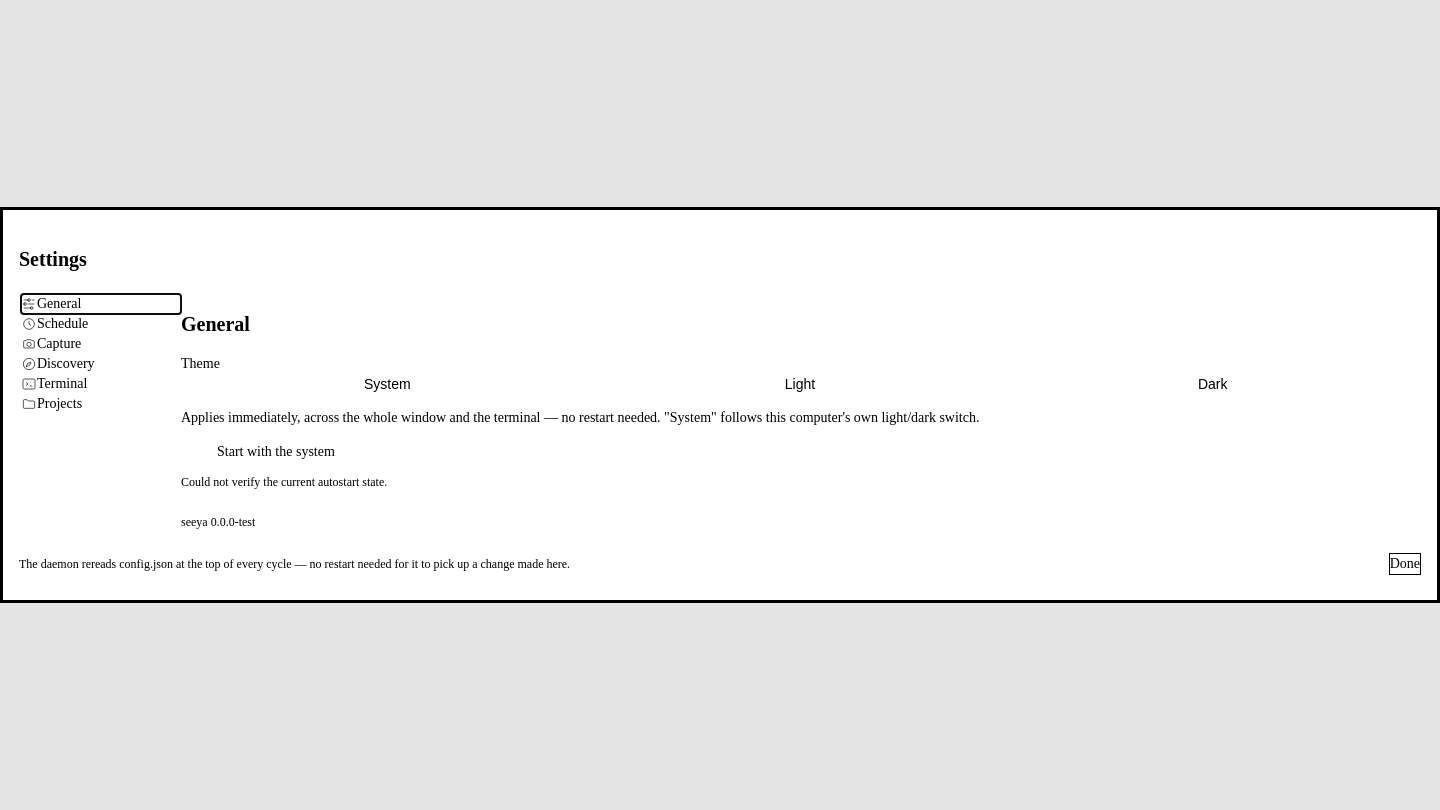
SettingsDialog (V2-T65, D-052, docs/INTERFACE.md § 8) › shows the Projects section read-only, and the policy heading/line
Check: the radio button labelled "System" is shown, box top-left (181, 374), bottom-right (594, 394)
Click the button "Projects" at (101, 404), box top-left (21, 394), bottom-right (181, 414)
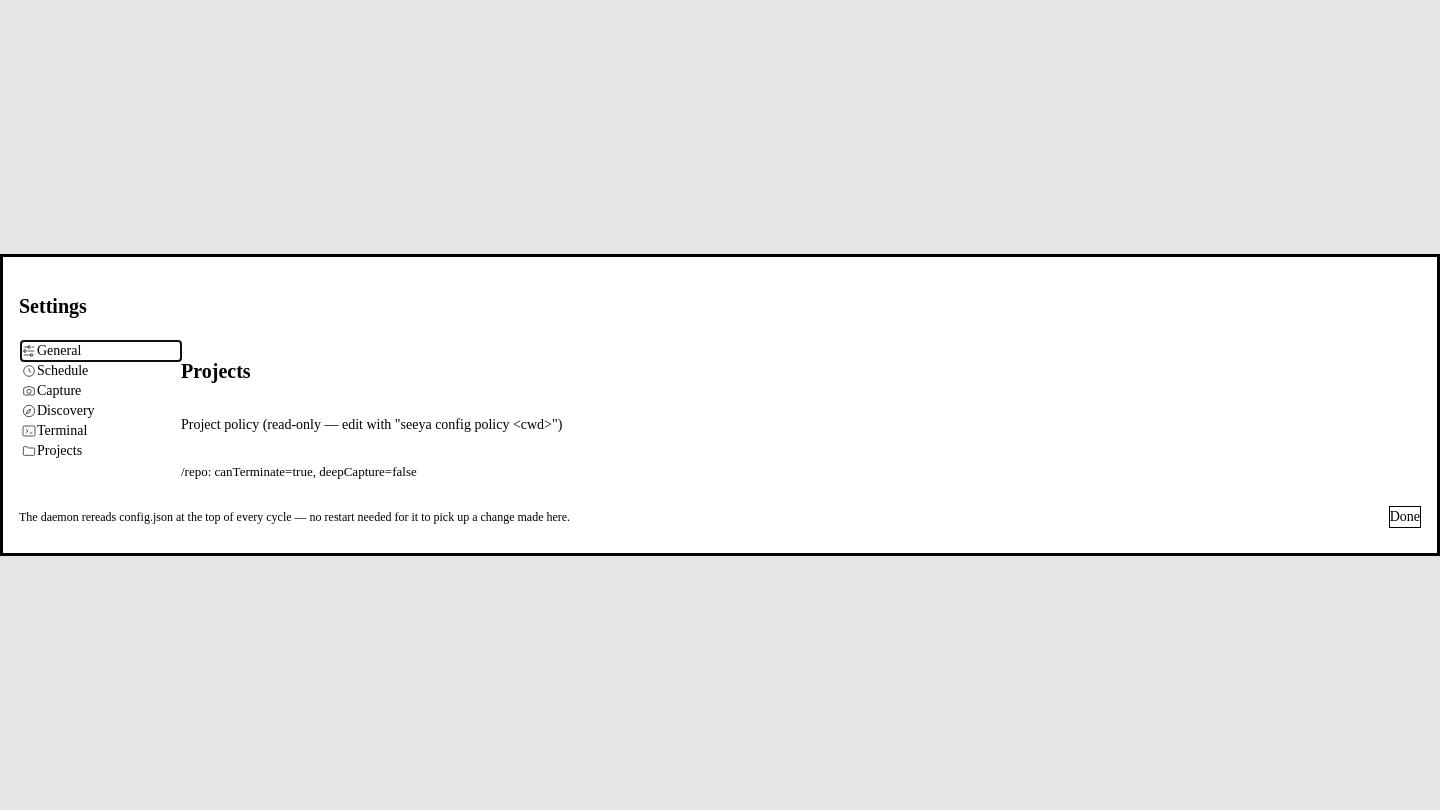
Check: the text "/repo: canTerminate=true, deepCapture=false" is shown, box top-left (181, 464), bottom-right (417, 479)
